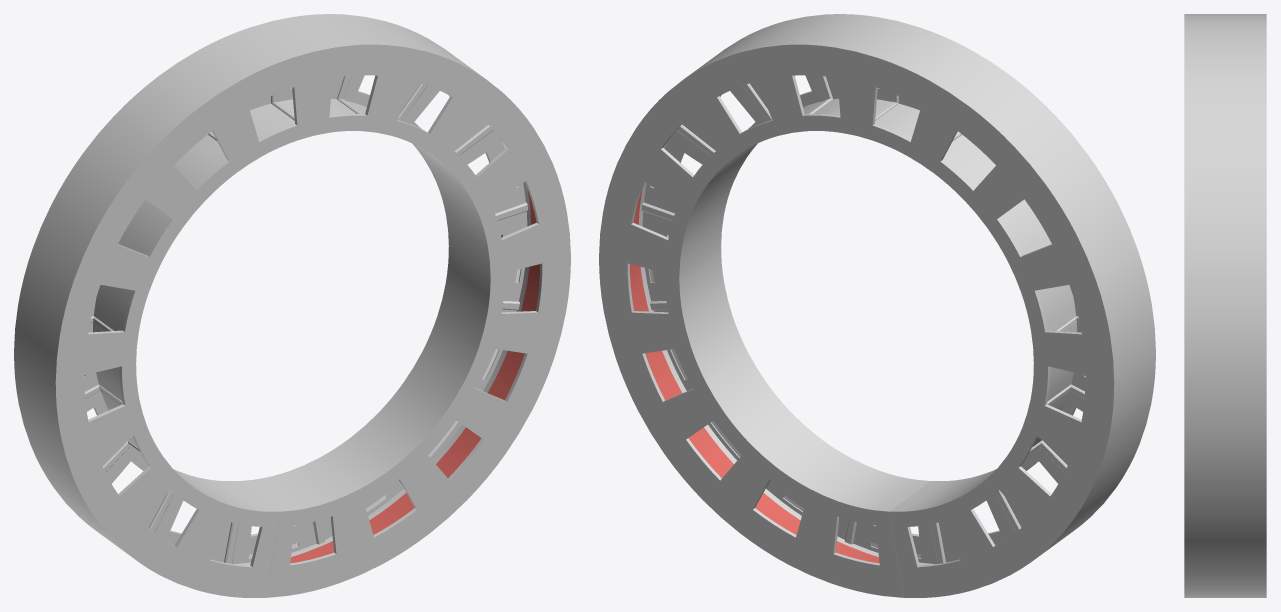
The model's file is Tech Demo.fbx.
3 views of the same model, side by side, from view 1: azimuth 30°, elevation 25°; view 2: azimuth 150°, elevation 25°; view 3: azimuth 270°, elevation 25° (orthographic).
Parts seen in each view (by area): view 1: Cube; view 2: Cube; view 3: Cube.
Boxes of the visible parts, bbox=[...] form: Cube: bbox=[14, 14, 570, 597]; Cube: bbox=[599, 14, 1155, 597]; Cube: bbox=[1184, 14, 1266, 597].
Bounding box in the file's own units: 1282 × 1282 × 180.
